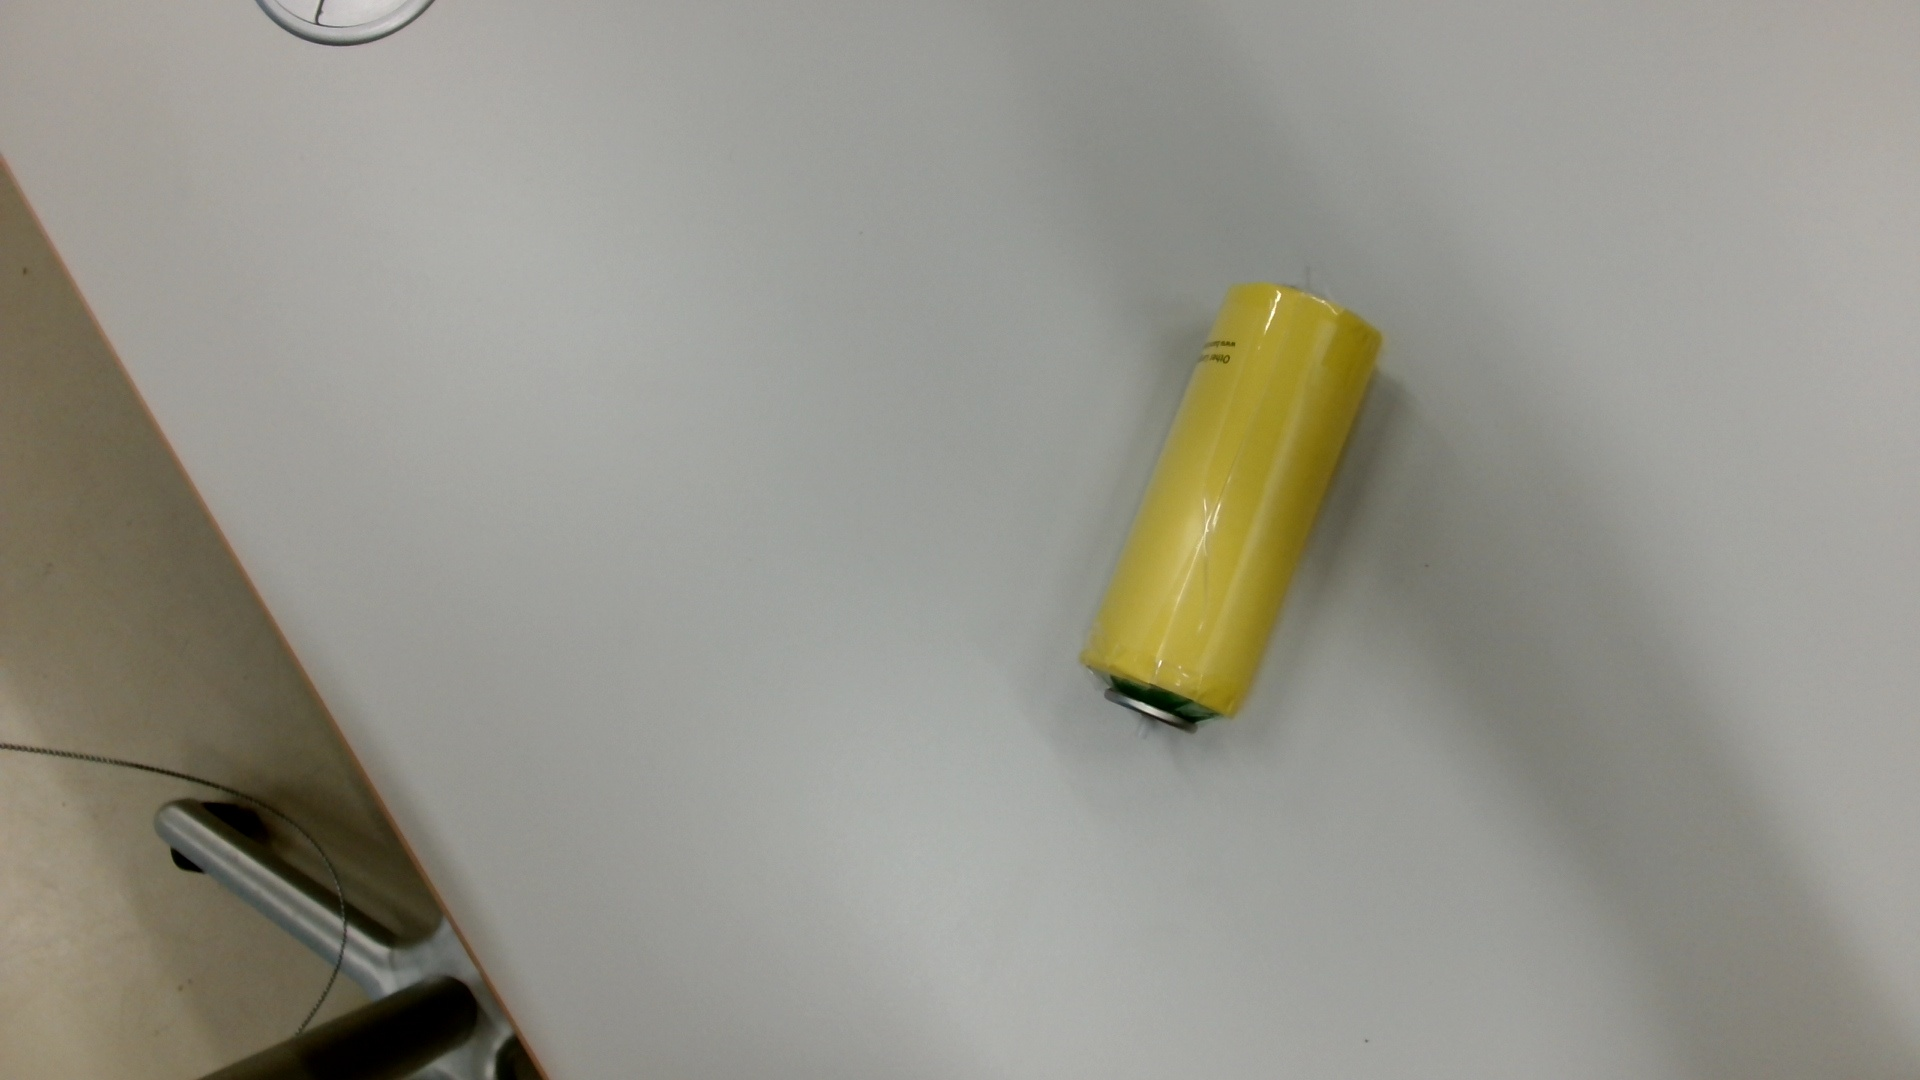Cylinder: (1065, 268, 1400, 750)
